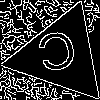C: (35, 30, 81, 82)
